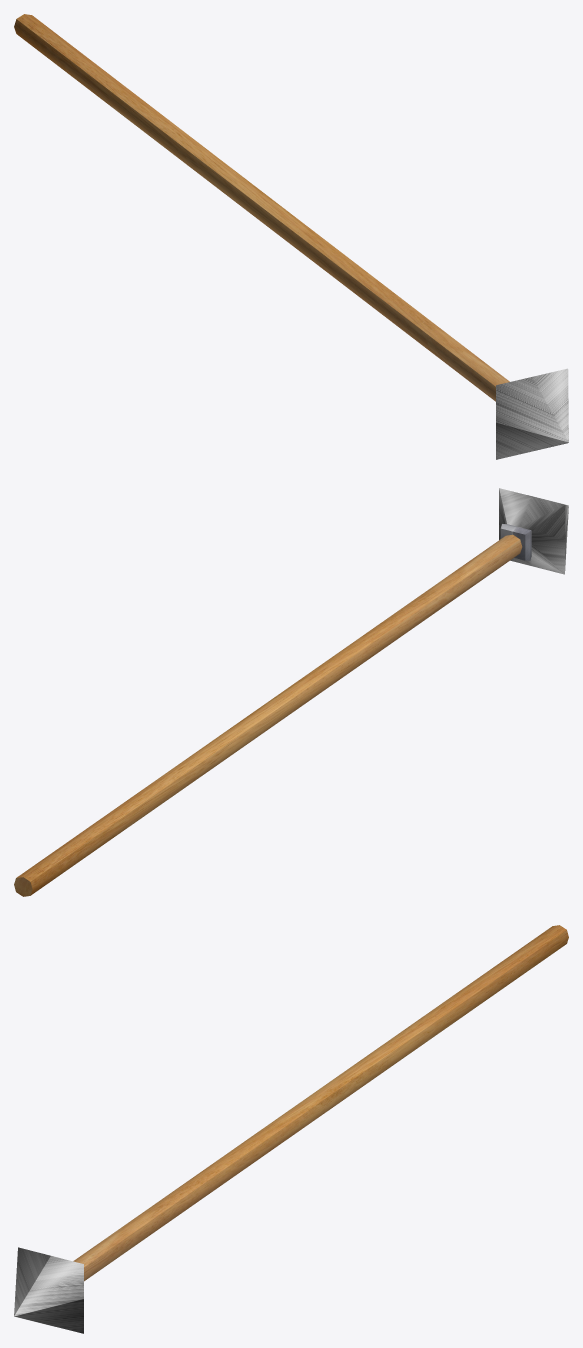
Rendered from TowerCrossbow_Arrow.FBX.
3 views of the same model, one above another, from view 1: azimuth 30°, elevation 25°; view 2: azimuth 150°, elevation 25°; view 3: azimuth 330°, elevation 25° (orthographic). The views are drawn at different scales.
Parts seen in each view (by area): view 1: Box065; view 2: Box065; view 3: Box065.
Boxes of the visible parts, x1,y1,x2,y2 form: Box065: (14,14,568,459); Box065: (14,488,568,896); Box065: (14,925,568,1333).
Size of the model in its own units: 7.27 by 7.27 by 99.67.
Materials: 1 (1 with a texture image).
